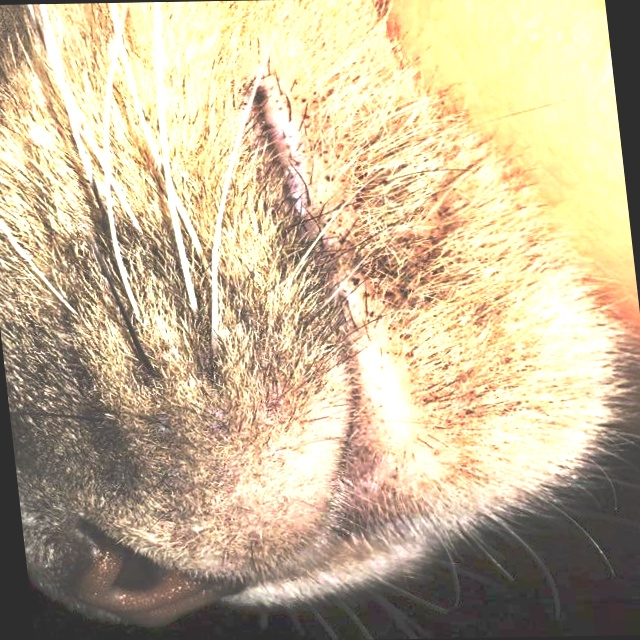acne: (293, 68, 464, 326)
